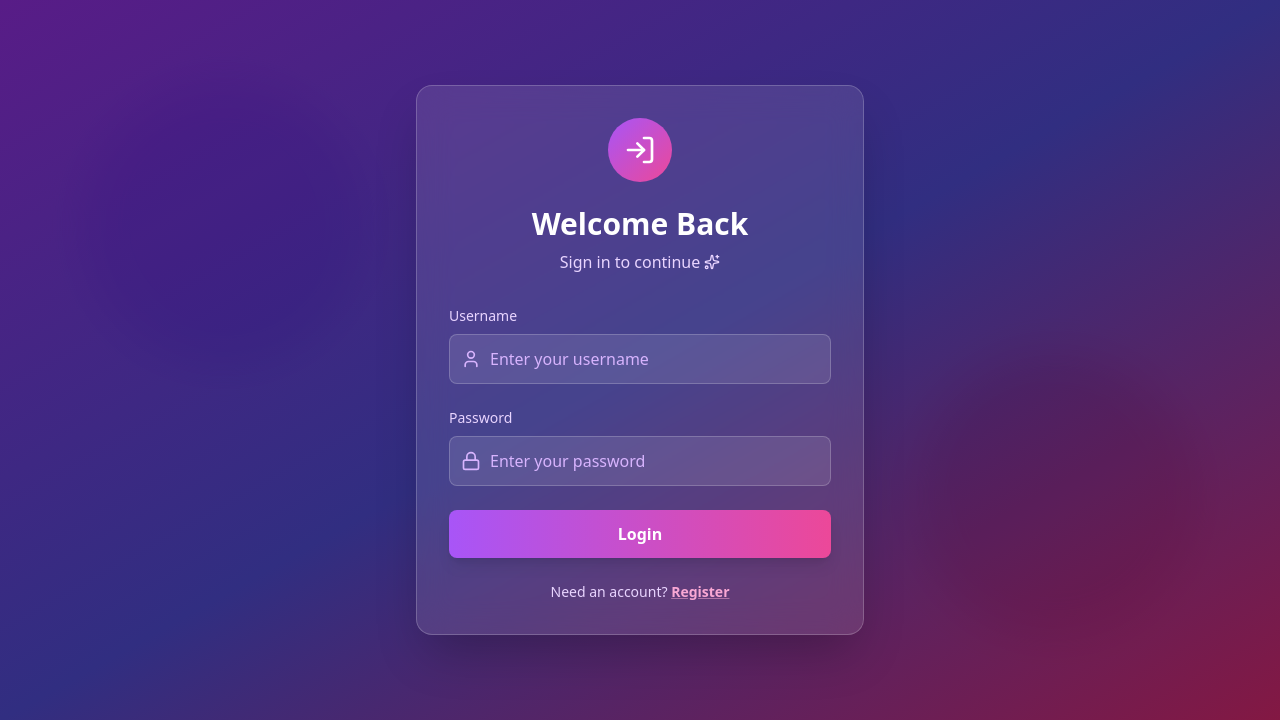
Login page › shows validation messages when submitting empty form
Click the button "Login".
click(640, 534)  # box [449, 510, 831, 558]
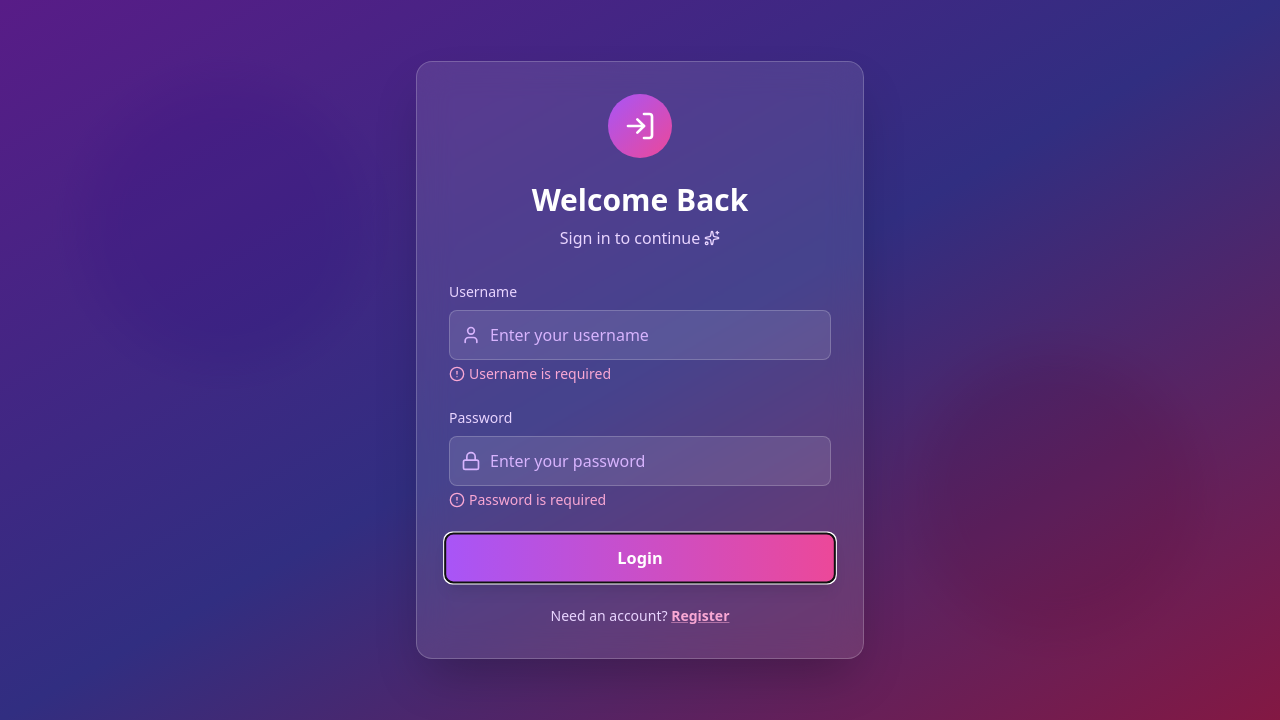
Check: the text "Username is required" is shown, box [449, 364, 611, 383]
Check: the text "Password is required" is shown, box [449, 490, 606, 509]
